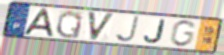A: (21, 8, 56, 39)
G: (168, 19, 198, 48)
J: (113, 15, 141, 43), (142, 19, 167, 45)
Q: (54, 9, 84, 40)
V: (86, 10, 116, 42)
